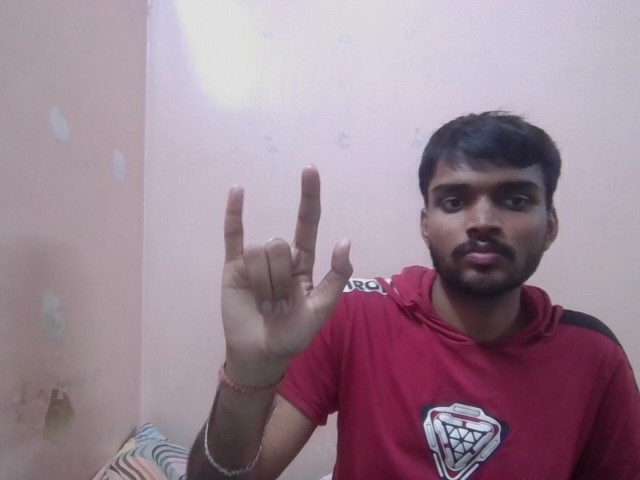I Love You: (221, 159, 352, 360)
